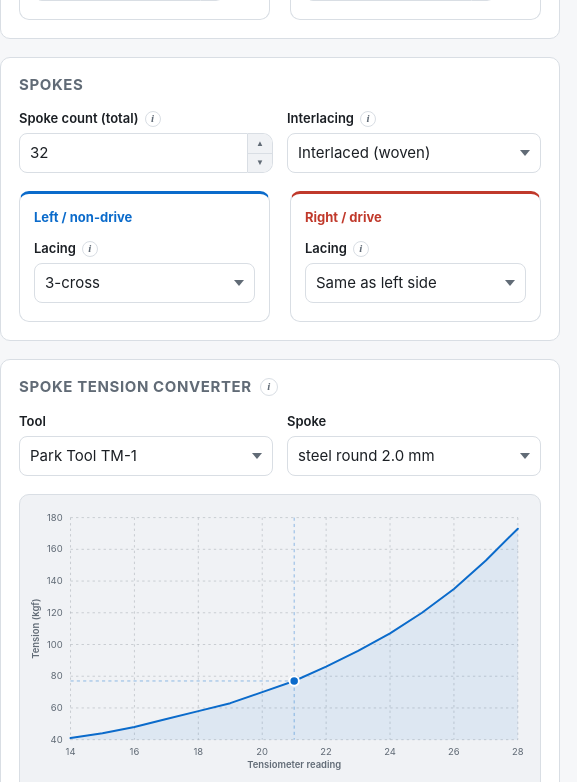
Test case: Wheel building page › briefly explains the tension converter's purpose
(page scrolled)
Click the button named "About: Spoke tension converter": (269, 387) [260,378,278,396]
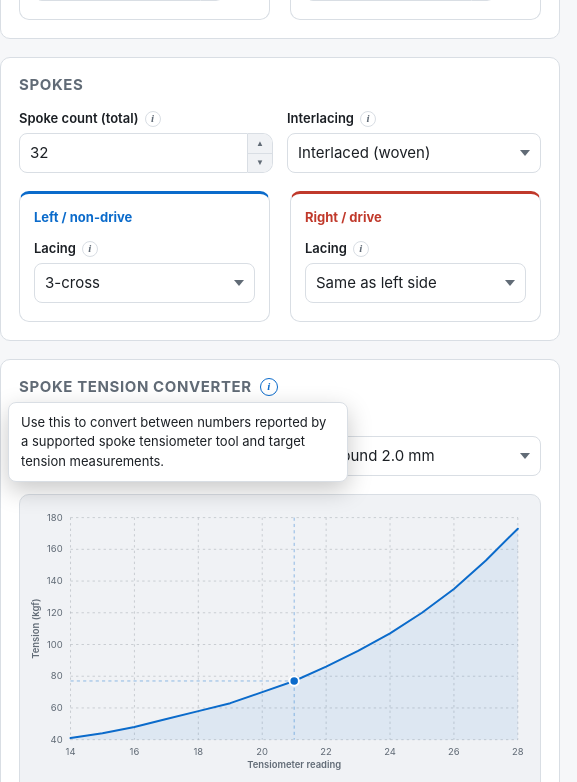
Expected: the tooltip "Use this to convert between numbers reported by a supported spoke tensiometer tool and target tension measurements." is shown, [21,414,326,469]
